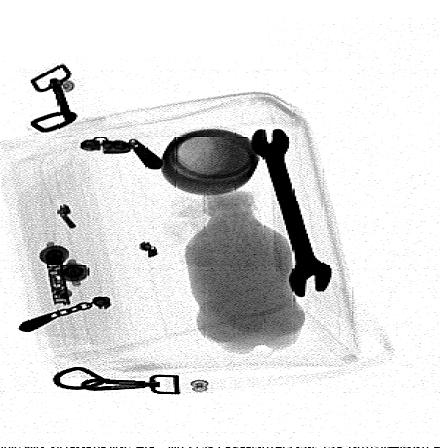Wrench: (248, 126, 334, 298)
